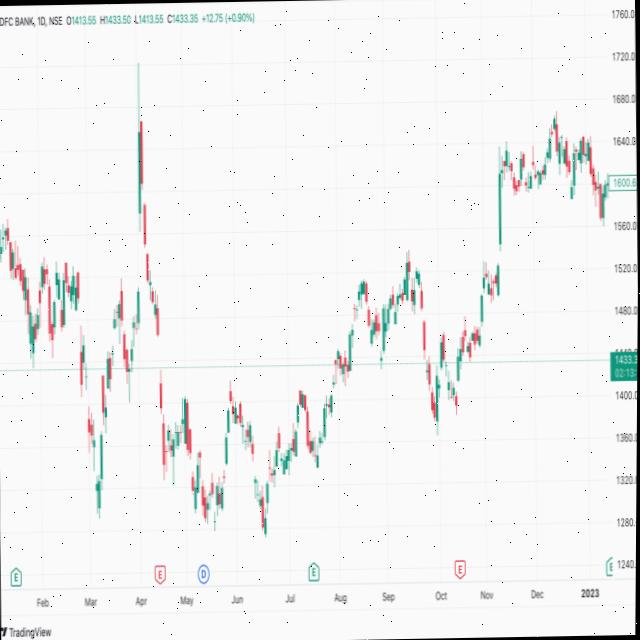Gap Down: (137, 110, 156, 292), (155, 288, 169, 431), (83, 360, 95, 458), (75, 266, 84, 386), (118, 279, 129, 371), (418, 275, 429, 363), (186, 422, 198, 495), (249, 424, 260, 502), (376, 306, 386, 374)
Gap Up: (491, 146, 511, 314), (220, 426, 232, 494), (454, 352, 465, 426), (328, 367, 342, 421), (109, 303, 118, 365)
